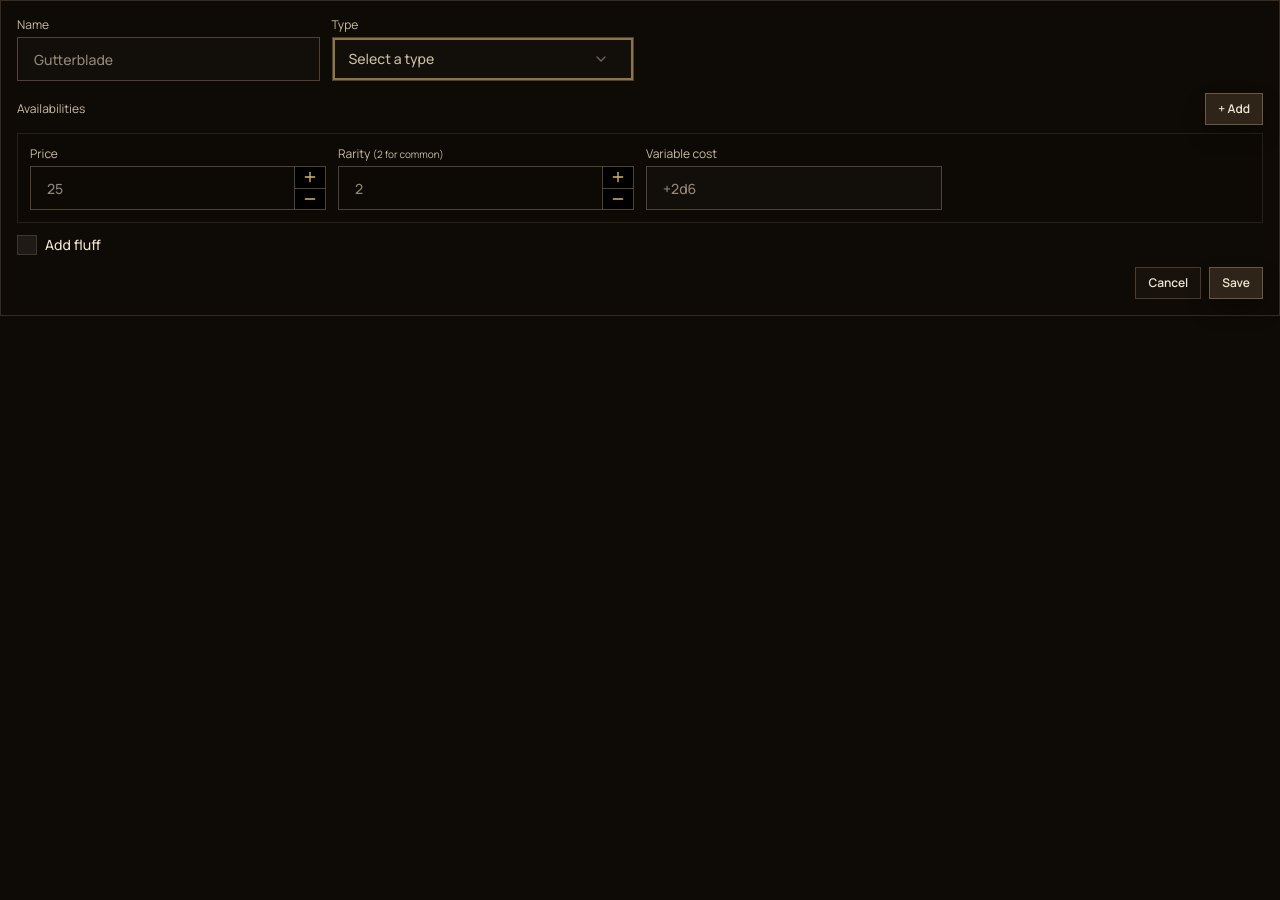
Test: AddItemForm: property search › puts a property it creates into the cached item-properties list
Press Enter
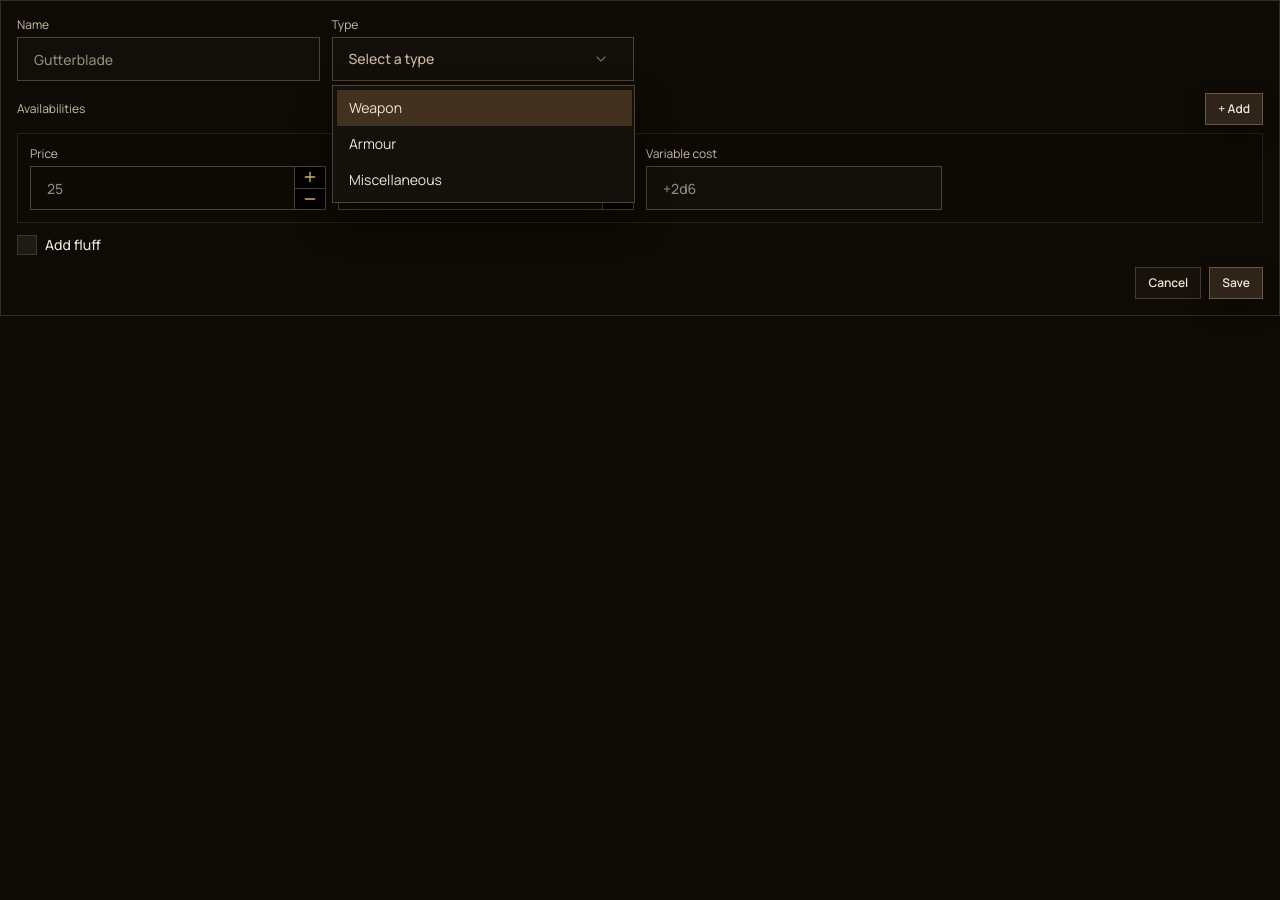
Press Enter
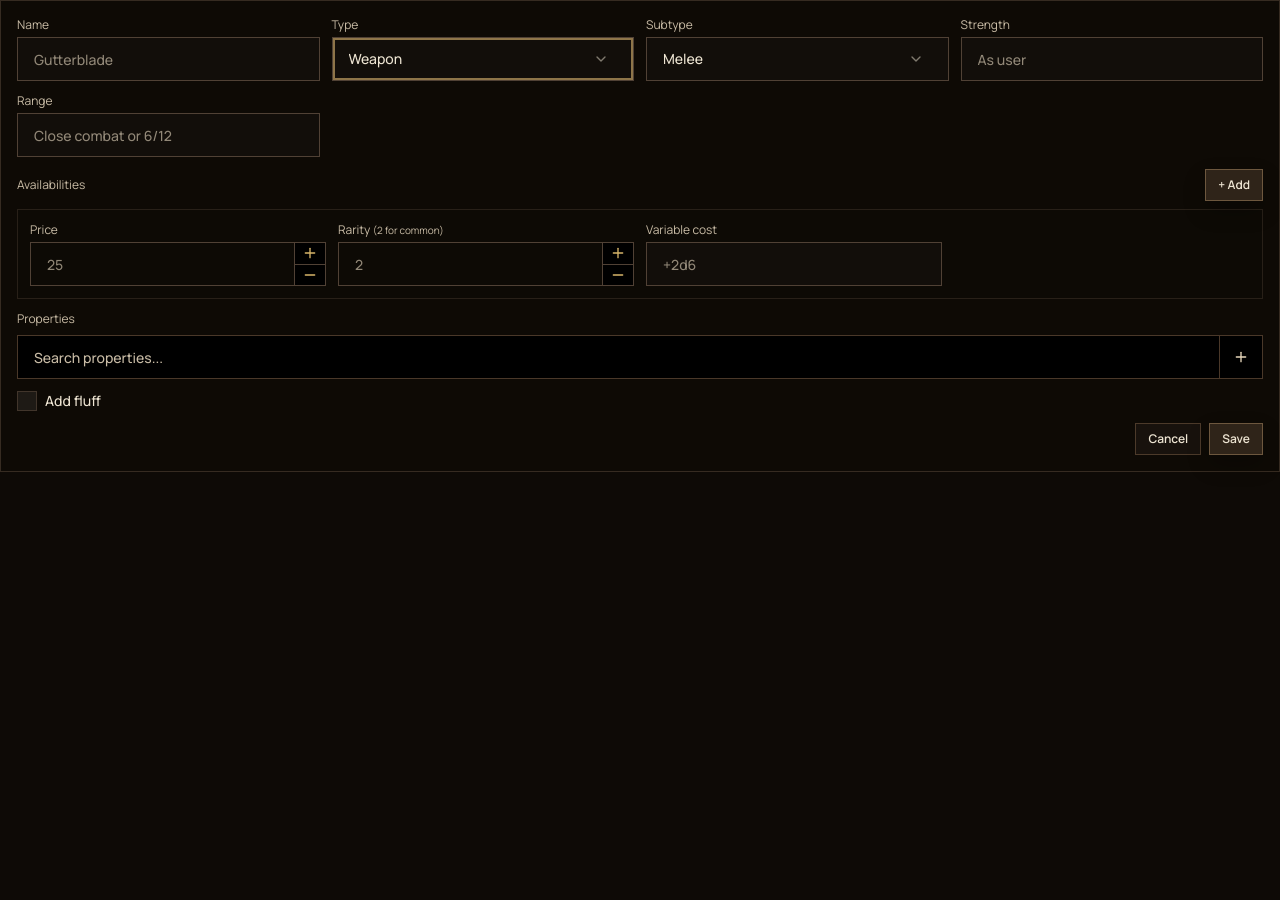
Click the button named "Create". click: (1241, 357)
box: [1219,335,1263,379]
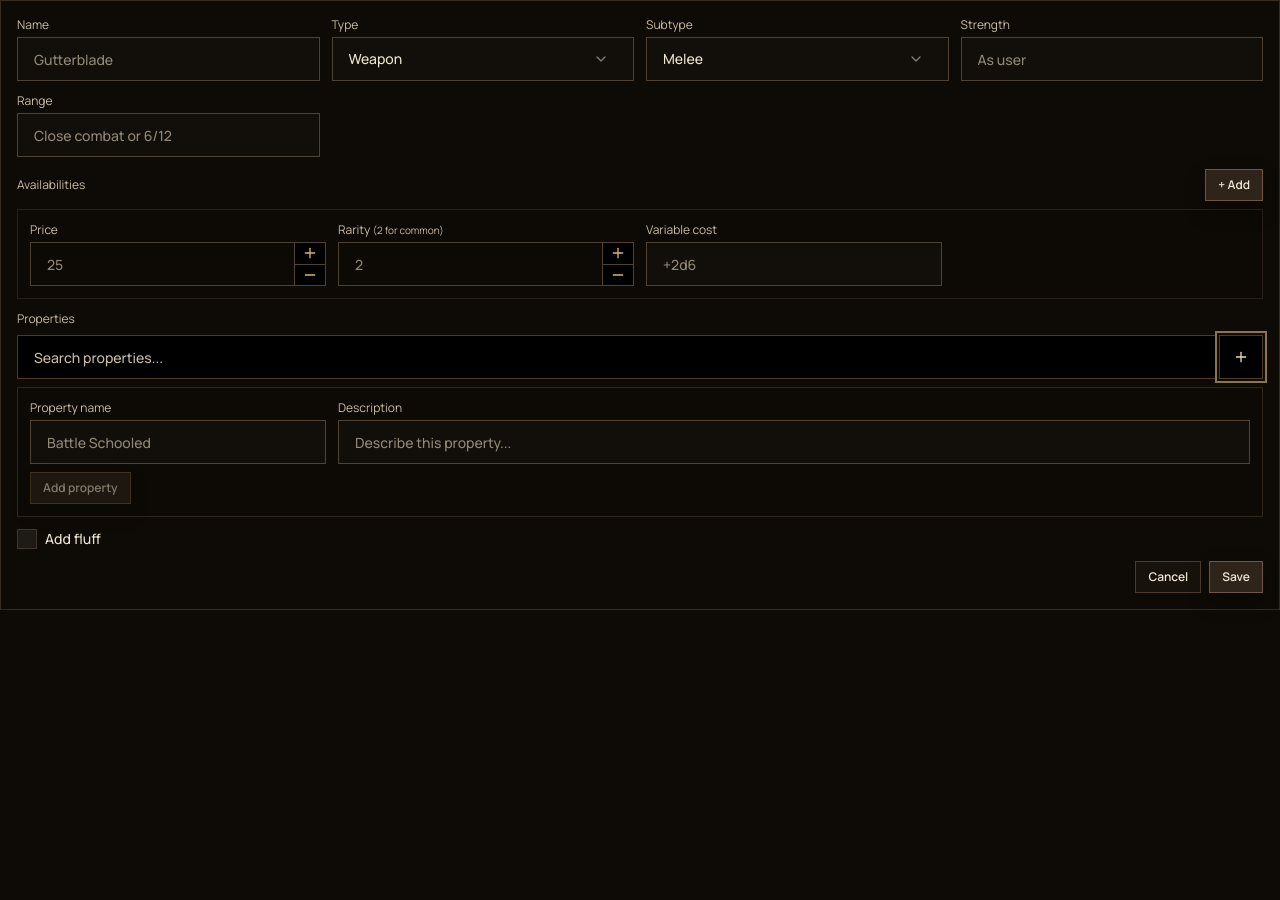
Type "Rusty" into the field with placeholder "Battle Schooled". click: (178, 442)
box: [30,420,326,464]
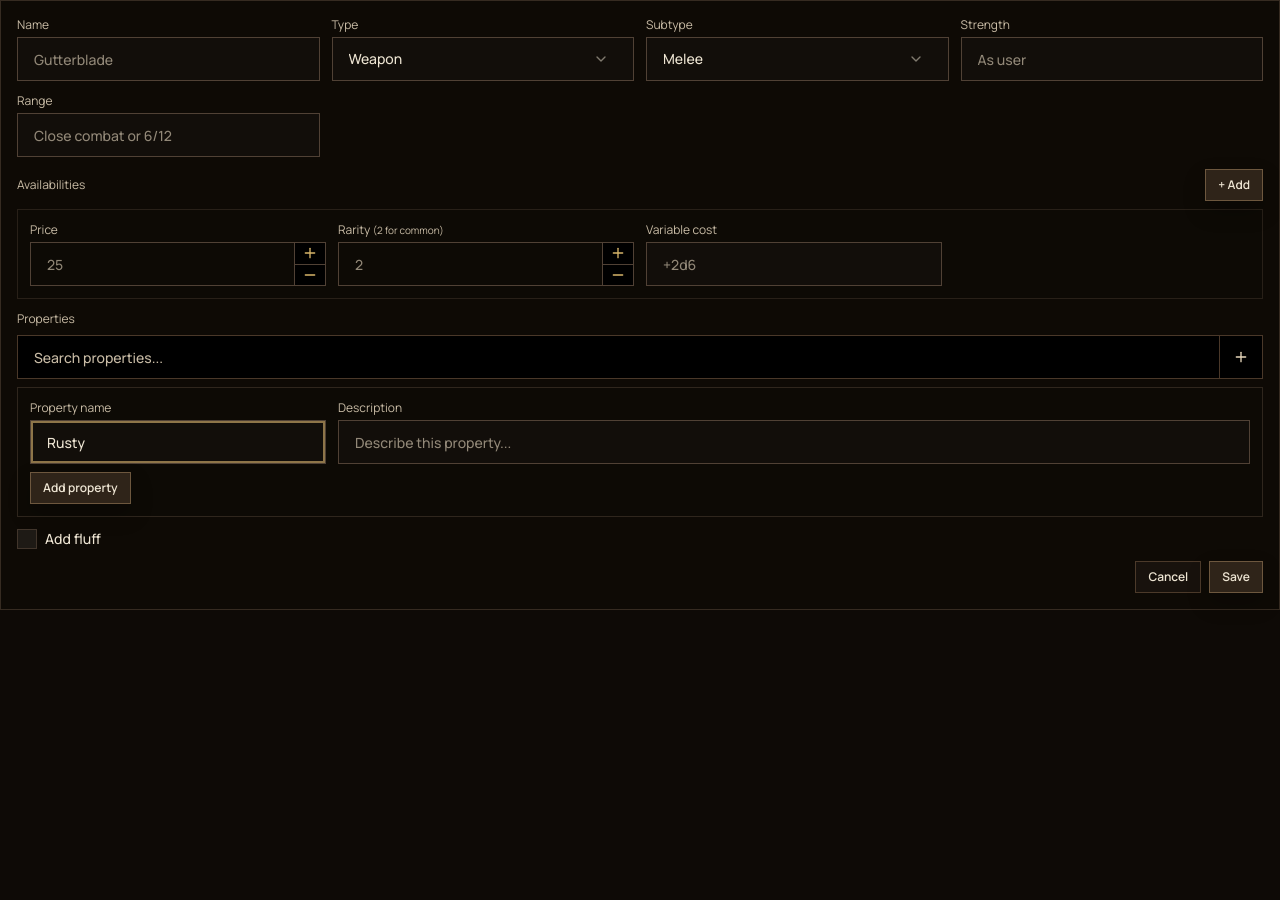
Click the button "Add property". click: (80, 488)
box: [30,472,131,504]
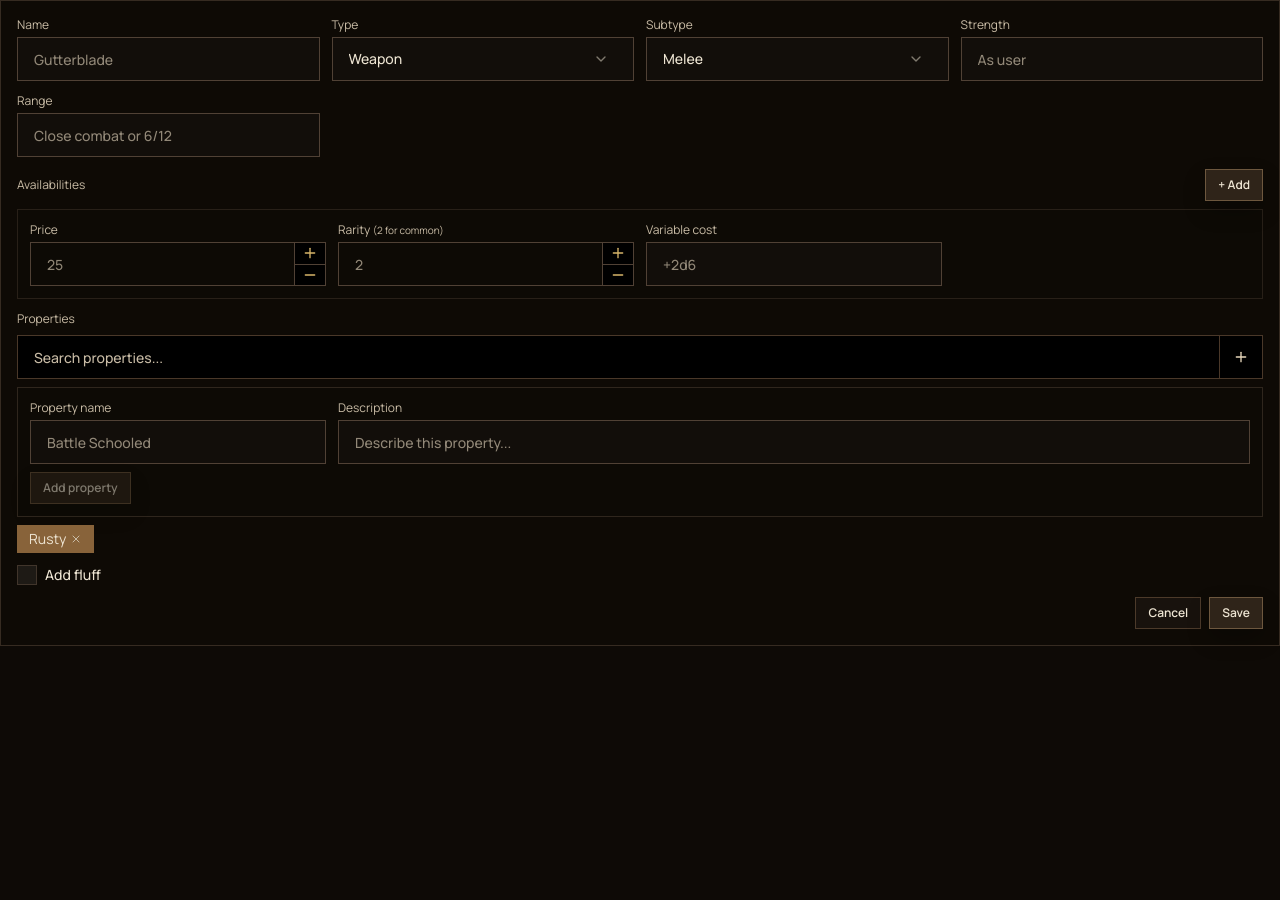
Expected: the text "Rusty" is shown, [29,529,66,549]
